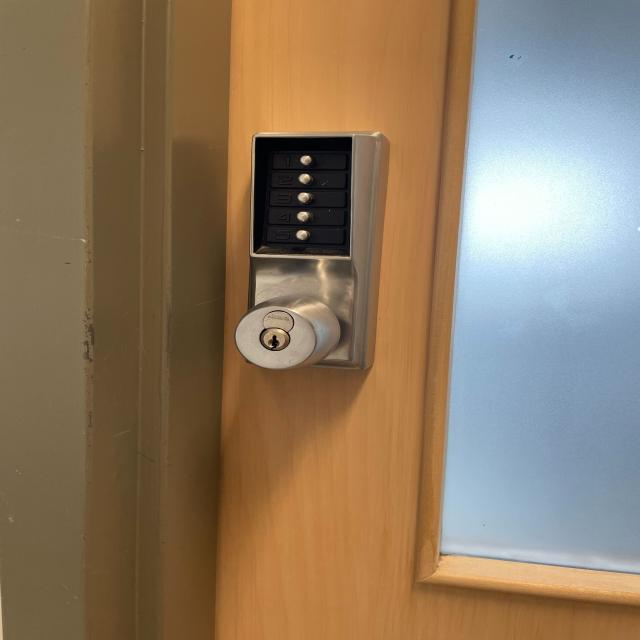door-knob: (235, 295, 340, 369)
